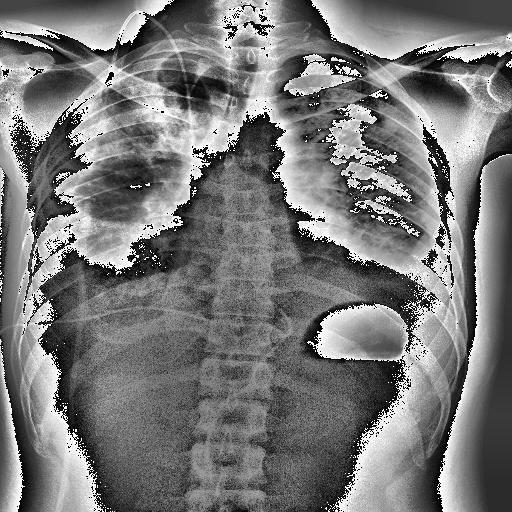10- Pleural effusion: (26, 174, 190, 308), (26, 216, 180, 358), (22, 195, 136, 310), (356, 208, 452, 302), (350, 212, 454, 294), (350, 228, 448, 296)
13- Pulmonary fibrosis: (52, 161, 126, 171), (58, 192, 94, 202)
4- Consolidation: (37, 60, 213, 192), (44, 62, 190, 169), (362, 102, 420, 154)
6- Infiltration: (39, 48, 211, 222), (302, 90, 422, 251), (80, 157, 206, 286), (304, 87, 418, 193), (54, 201, 162, 271), (352, 96, 426, 176)
7- Lung Opacity: (37, 60, 213, 192), (54, 201, 162, 271), (352, 96, 426, 176)
